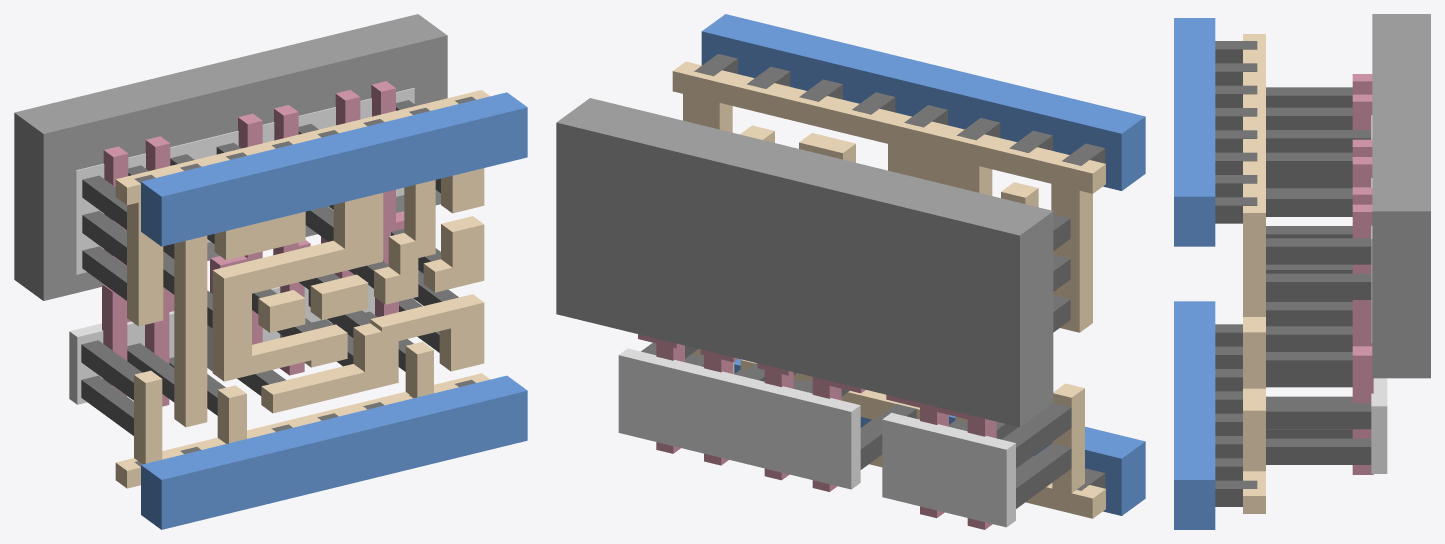
Rendered from sky130_fd_sc_hd__o22a_2.gds.gltf.
3 views of the same model, side by side, from view 1: azimuth 30°, elevation 25°; view 2: azimuth 150°, elevation 25°; view 3: azimuth 270°, elevation 25° (orthographic). The views are drawn at different scales.
Visible parts, largest first — view 1: sky130_fd_sc_hd__o22a_2_li1, sky130_fd_sc_hd__o22a_2_met1, sky130_fd_sc_hd__o22a_2_nwell, sky130_fd_sc_hd__o22a_2_licon, sky130_fd_sc_hd__o22a_2_poly, sky130_fd_sc_hd__o22a_2_diff, sky130_fd_sc_hd__o22a_2_mcon; view 2: sky130_fd_sc_hd__o22a_2_nwell, sky130_fd_sc_hd__o22a_2_diff, sky130_fd_sc_hd__o22a_2_li1, sky130_fd_sc_hd__o22a_2_met1, sky130_fd_sc_hd__o22a_2_licon, sky130_fd_sc_hd__o22a_2_mcon, sky130_fd_sc_hd__o22a_2_poly; view 3: sky130_fd_sc_hd__o22a_2_licon, sky130_fd_sc_hd__o22a_2_nwell, sky130_fd_sc_hd__o22a_2_met1, sky130_fd_sc_hd__o22a_2_mcon, sky130_fd_sc_hd__o22a_2_li1, sky130_fd_sc_hd__o22a_2_poly, sky130_fd_sc_hd__o22a_2_diff.
Boxes of the visible parts, x1=… form: sky130_fd_sc_hd__o22a_2_li1: x1=115, y1=90, x2=489, y2=488; sky130_fd_sc_hd__o22a_2_met1: x1=141, y1=92, x2=527, y2=529; sky130_fd_sc_hd__o22a_2_nwell: x1=14, y1=14, x2=447, y2=300; sky130_fd_sc_hd__o22a_2_licon: x1=81, y1=100, x2=458, y2=435; sky130_fd_sc_hd__o22a_2_poly: x1=102, y1=81, x2=404, y2=406; sky130_fd_sc_hd__o22a_2_diff: x1=69, y1=88, x2=415, y2=404; sky130_fd_sc_hd__o22a_2_mcon: x1=134, y1=96, x2=475, y2=466; sky130_fd_sc_hd__o22a_2_nwell: x1=556, y1=98, x2=1053, y2=427; sky130_fd_sc_hd__o22a_2_diff: x1=618, y1=348, x2=1015, y2=527; sky130_fd_sc_hd__o22a_2_li1: x1=672, y1=61, x2=1105, y2=518; sky130_fd_sc_hd__o22a_2_met1: x1=701, y1=14, x2=1145, y2=515; sky130_fd_sc_hd__o22a_2_licon: x1=641, y1=214, x2=1071, y2=508; sky130_fd_sc_hd__o22a_2_mcon: x1=694, y1=54, x2=1105, y2=490; sky130_fd_sc_hd__o22a_2_poly: x1=638, y1=334, x2=996, y2=529; sky130_fd_sc_hd__o22a_2_licon: x1=1266, y1=87, x2=1371, y2=464; sky130_fd_sc_hd__o22a_2_nwell: x1=1372, y1=14, x2=1430, y2=378; sky130_fd_sc_hd__o22a_2_met1: x1=1174, y1=18, x2=1215, y2=529; sky130_fd_sc_hd__o22a_2_mcon: x1=1215, y1=41, x2=1257, y2=506; sky130_fd_sc_hd__o22a_2_li1: x1=1243, y1=34, x2=1265, y2=513; sky130_fd_sc_hd__o22a_2_poly: x1=1352, y1=74, x2=1373, y2=474; sky130_fd_sc_hd__o22a_2_diff: x1=1371, y1=115, x2=1387, y2=473.
Bounding box in the file's own units: 4.06 × 3.2 × 2.24.
